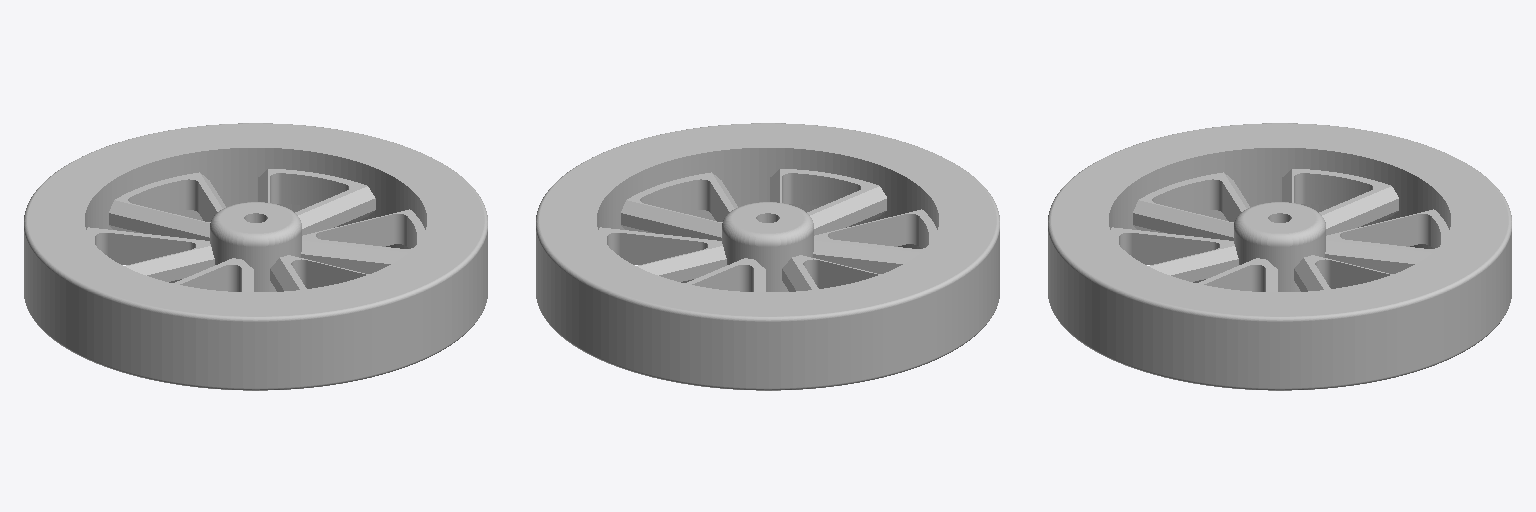
File: Leg_wheel.obj
3 renders of one model, left to right at view 1: azimuth 30°, elevation 25°; view 2: azimuth 150°, elevation 25°; view 3: azimuth 270°, elevation 25°, orthographic.
Visible parts, largest first — view 1: wheel_leg_24, wheel_leg_23, wheel_leg_16, wheel_leg_18, wheel_leg_20, wheel_leg_19, wheel_leg_17, wheel_leg_21, wheel_leg_22; view 2: wheel_leg_24, wheel_leg_23, wheel_leg_16, wheel_leg_20, wheel_leg_22, wheel_leg_21, wheel_leg_19, wheel_leg_17, wheel_leg_18; view 3: wheel_leg_24, wheel_leg_23, wheel_leg_16, wheel_leg_22, wheel_leg_18, wheel_leg_17, wheel_leg_21, wheel_leg_19, wheel_leg_20.
Part boxes in pixels (bbox=[...]): wheel_leg_24: bbox=[24, 123, 487, 390]; wheel_leg_23: bbox=[76, 144, 435, 295]; wheel_leg_16: bbox=[210, 202, 301, 291]; wheel_leg_18: bbox=[109, 172, 225, 240]; wheel_leg_20: bbox=[301, 209, 425, 273]; wheel_leg_19: bbox=[258, 169, 375, 235]; wheel_leg_17: bbox=[86, 227, 214, 282]; wheel_leg_21: bbox=[270, 255, 368, 291]; wheel_leg_22: bbox=[173, 258, 253, 291]; wheel_leg_24: bbox=[536, 123, 999, 390]; wheel_leg_23: bbox=[588, 144, 947, 295]; wheel_leg_16: bbox=[722, 202, 813, 291]; wheel_leg_20: bbox=[621, 172, 737, 240]; wheel_leg_22: bbox=[813, 209, 937, 273]; wheel_leg_21: bbox=[770, 169, 886, 235]; wheel_leg_19: bbox=[598, 227, 726, 282]; wheel_leg_17: bbox=[782, 255, 880, 291]; wheel_leg_18: bbox=[685, 258, 765, 291]; wheel_leg_24: bbox=[1048, 123, 1511, 390]; wheel_leg_23: bbox=[1100, 144, 1459, 295]; wheel_leg_16: bbox=[1234, 202, 1325, 291]; wheel_leg_22: bbox=[1133, 172, 1249, 240]; wheel_leg_18: bbox=[1325, 209, 1449, 273]; wheel_leg_17: bbox=[1282, 169, 1398, 235]; wheel_leg_21: bbox=[1110, 227, 1238, 282]; wheel_leg_19: bbox=[1294, 255, 1392, 291]; wheel_leg_20: bbox=[1197, 258, 1277, 291].
Bounding box in the file's own units: 58.1 × 10.41 × 58.1.